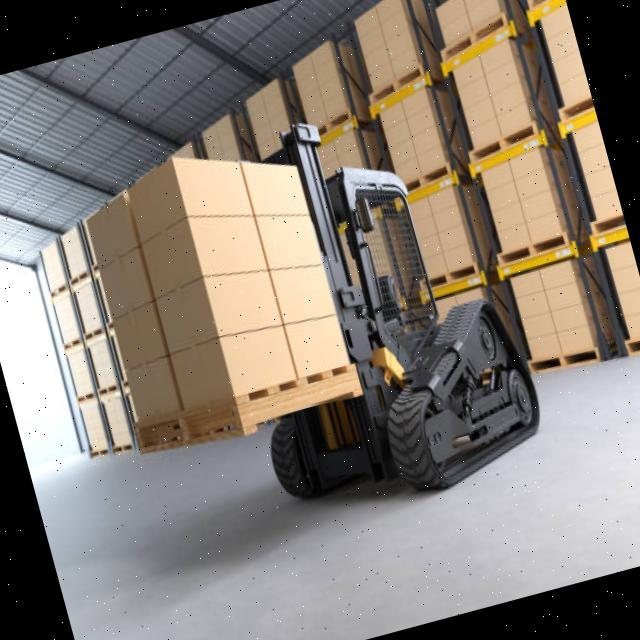Wooden-Pallets: (127, 363, 363, 471), (436, 8, 518, 83), (491, 220, 579, 282), (465, 119, 541, 178), (527, 336, 606, 386)
